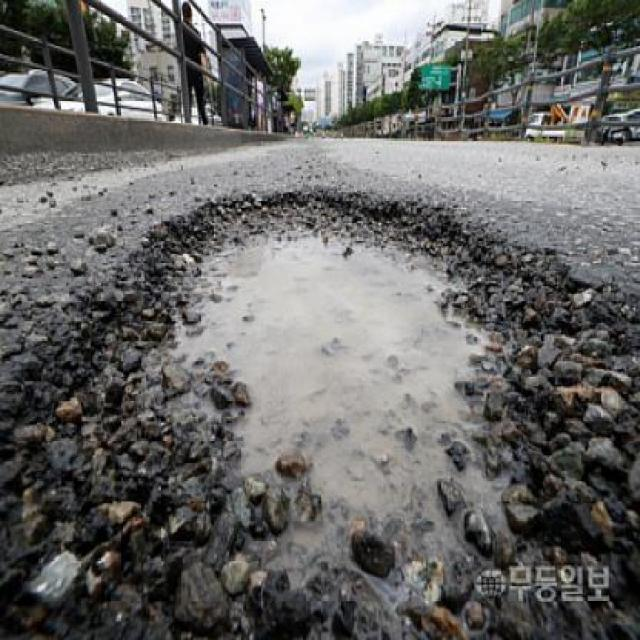Pothole: (118, 186, 567, 632)
